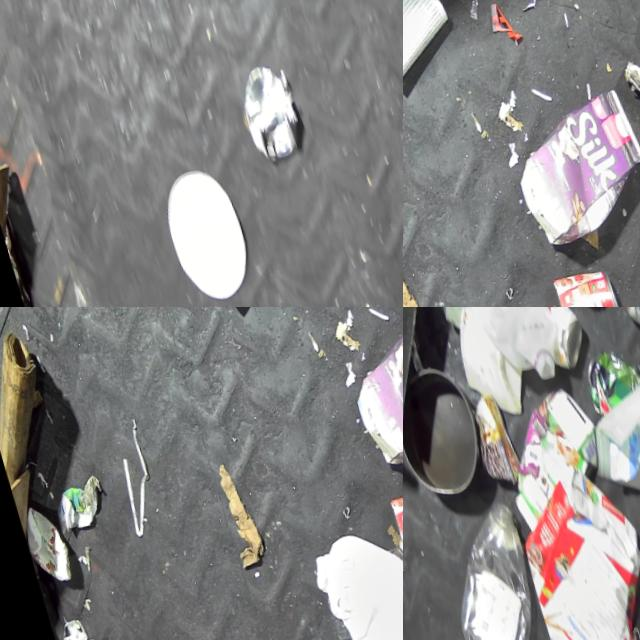can: (229, 61, 307, 174), (461, 389, 525, 498), (14, 498, 73, 591), (576, 343, 640, 428), (525, 307, 592, 381), (540, 256, 628, 307), (383, 485, 403, 589)
milk_jug: (431, 307, 570, 409), (300, 517, 403, 640)
non_white_jug: (425, 496, 556, 640), (337, 310, 403, 483)
